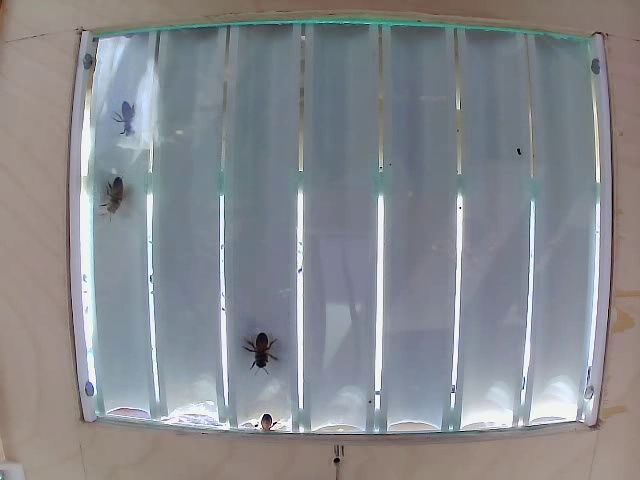bee: (115, 90, 159, 156), (234, 315, 280, 375), (98, 176, 125, 215)
